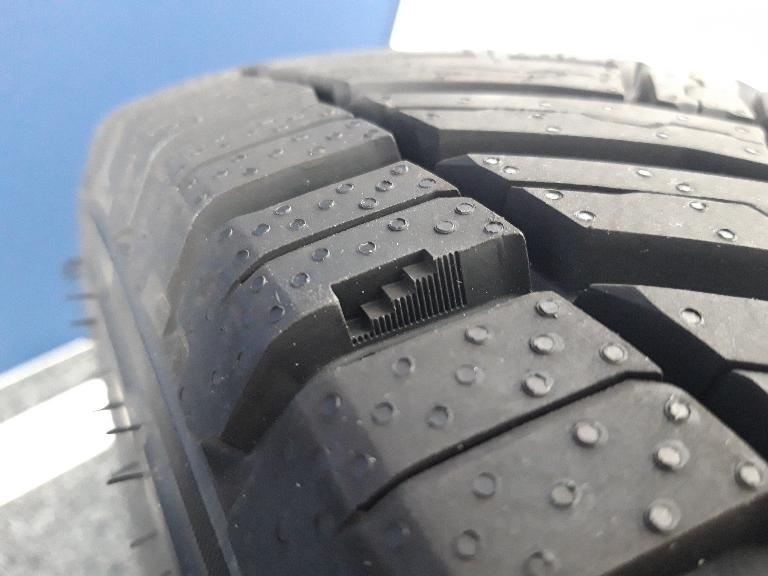temoin:100: (321, 238, 472, 354)
